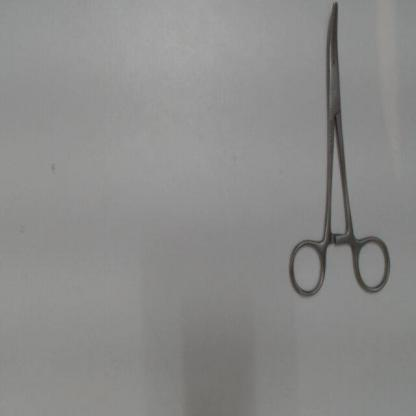Crile Artery Forceps: (282, 1, 396, 301)
